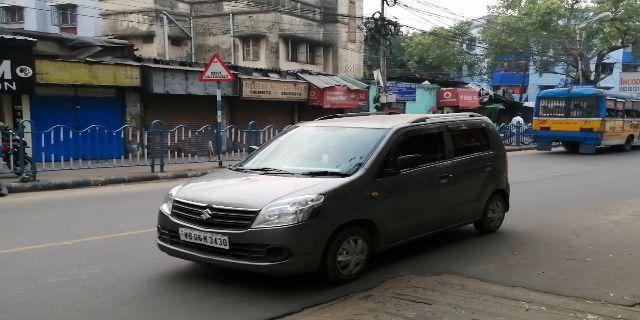Bus: (531, 86, 636, 146)
Car: (162, 109, 510, 258)
